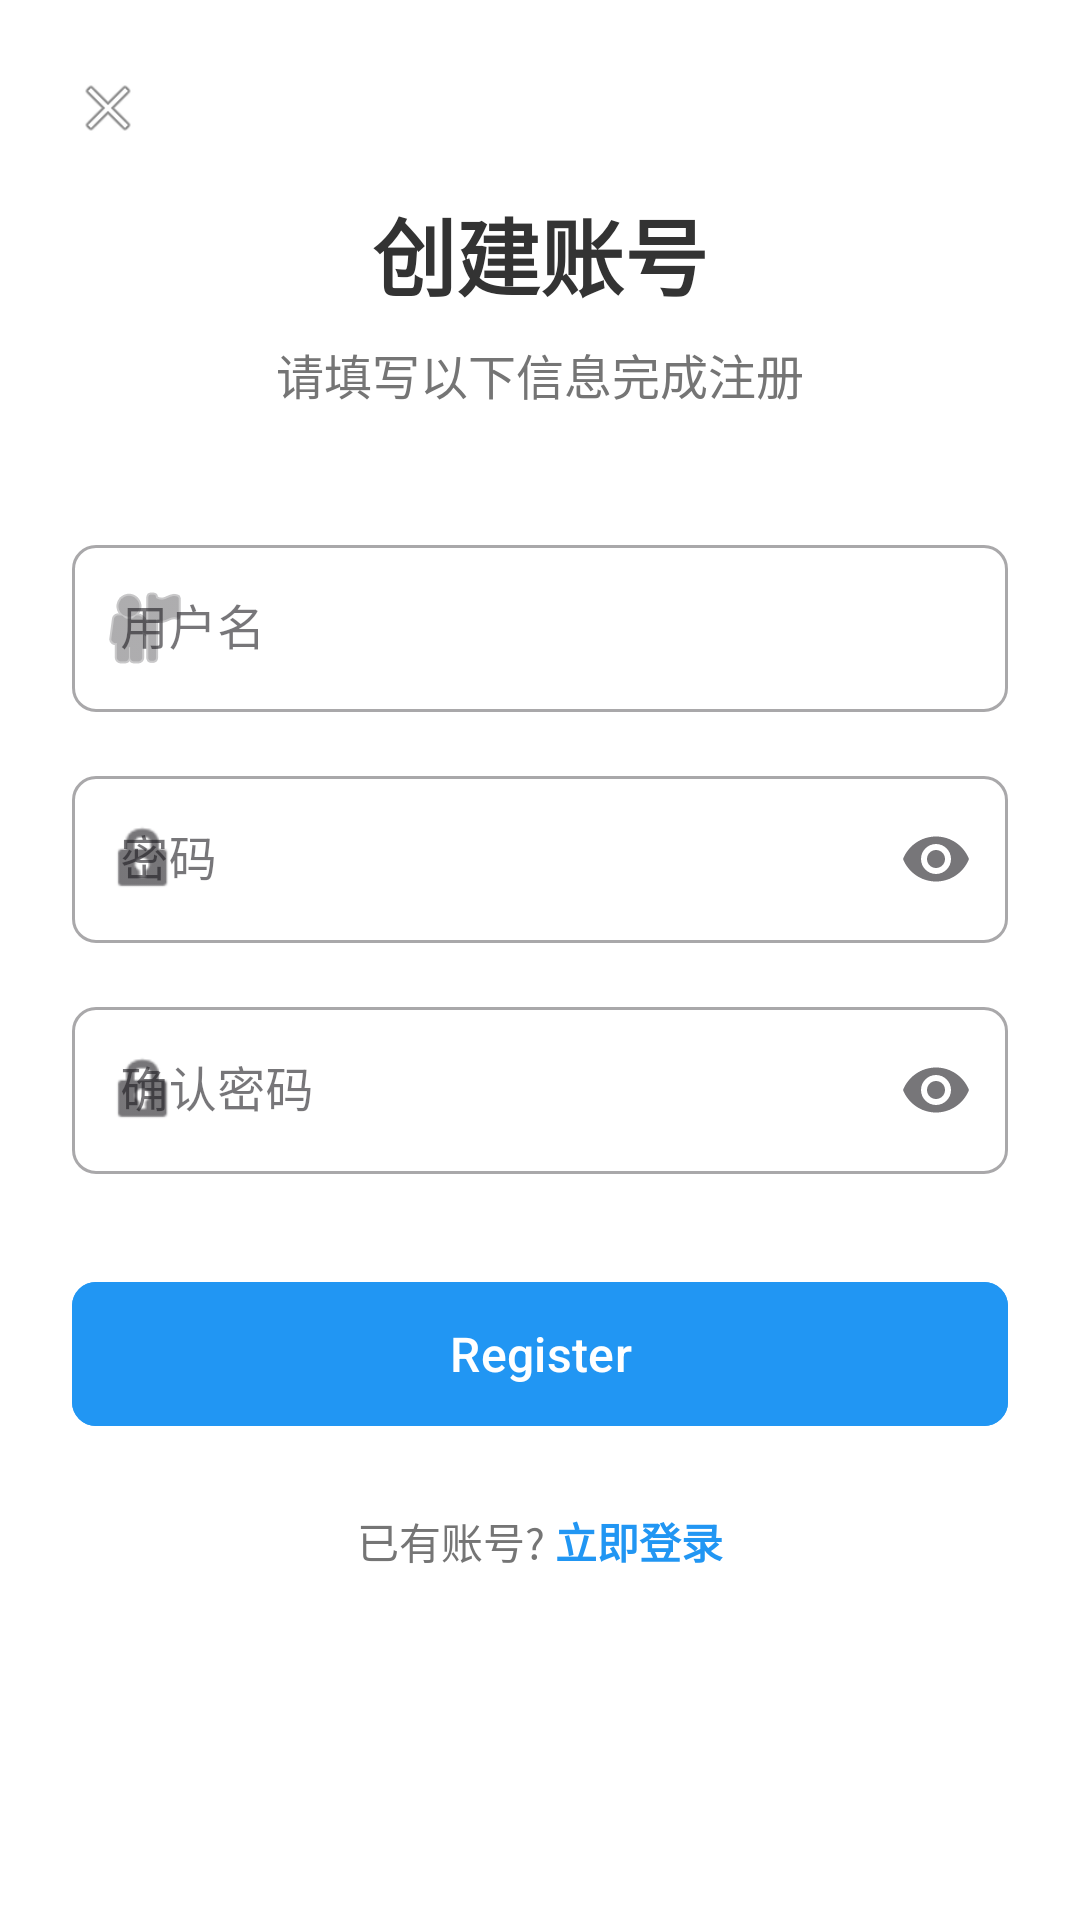

Locate icon controls on the screen. Image size 1080 x 1920, boxes as bbox=(x1, y1, x2, y2).
close clear cancel: bbox=(85, 85, 131, 131)
